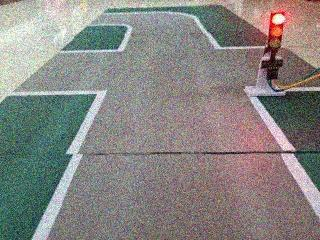red: (260, 8, 289, 63)
